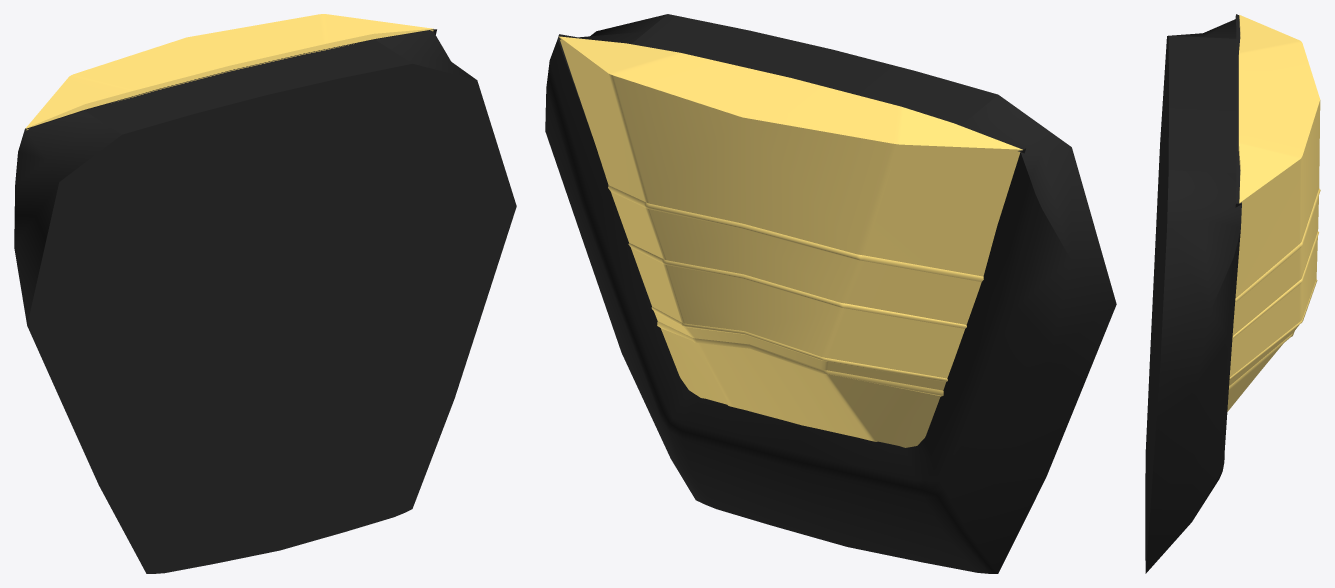
Rendered from golden-handle.gltf.
3 renders of one model, left to right at view 1: azimuth 30°, elevation 25°; view 2: azimuth 150°, elevation 25°; view 3: azimuth 270°, elevation 25°, orthographic. The views are drawn at different scales.
Parts seen in each view (by area): view 1: armrest1; view 2: armrest1; view 3: armrest1.
Part boxes in pixels (box(x1,y1,x2,y2)): armrest1: box(14, 14, 516, 573); armrest1: box(545, 14, 1116, 573); armrest1: box(1145, 14, 1320, 573).
Size of the model in its own units: 0.02 by 0.0176 by 0.00658.
